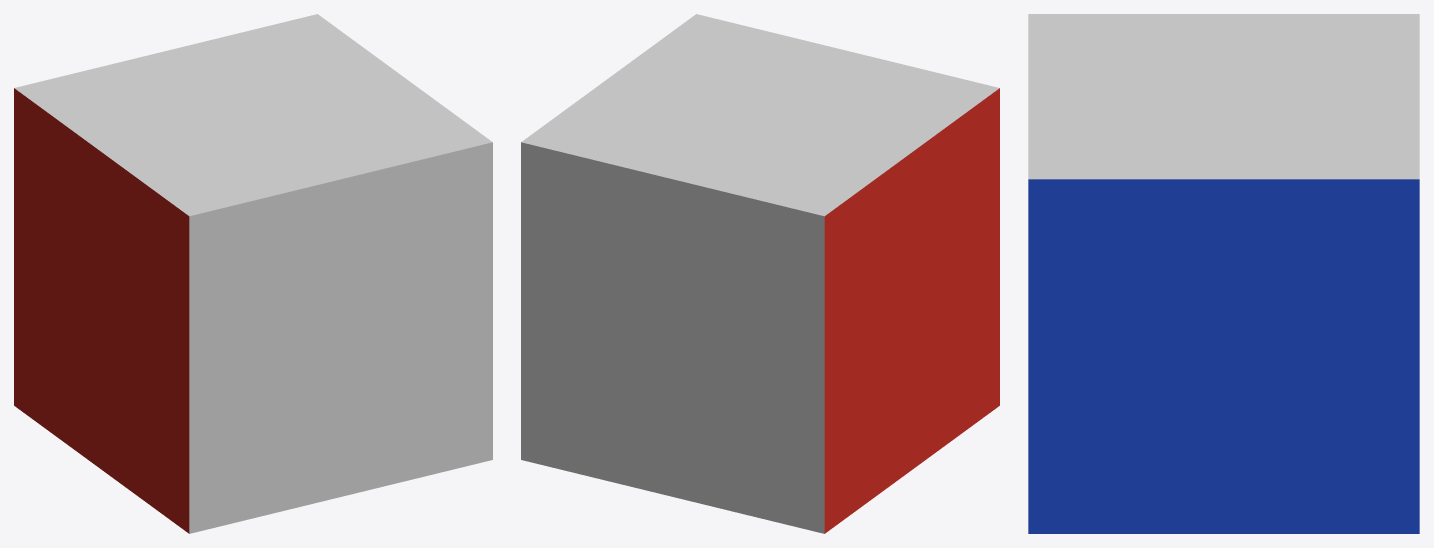
File: cornell2.glb
3 renders of one model, left to right at view 1: azimuth 30°, elevation 25°; view 2: azimuth 150°, elevation 25°; view 3: azimuth 270°, elevation 25°, orthographic. The views are drawn at different scales.
Visible parts, largest first — view 1: Plane.001, Plane.002, Plane.004; view 2: Plane, Plane.002, Plane.004, BigBox, Cube.001; view 3: Plane.003, Plane.004.
Boxes of the visible parts, x1,y1,x2,y2 form: Plane.001: [189, 142, 492, 533]; Plane.002: [14, 88, 189, 533]; Plane.004: [14, 14, 492, 216]; Plane: [521, 142, 824, 533]; Plane.002: [824, 88, 999, 533]; Plane.004: [521, 14, 999, 216]; BigBox: [668, 281, 761, 365]; Cube.001: [551, 308, 646, 419]; Plane.003: [1028, 179, 1419, 533]; Plane.004: [1028, 14, 1419, 179].
Bounding box in the file's own units: 2 × 2 × 2.
